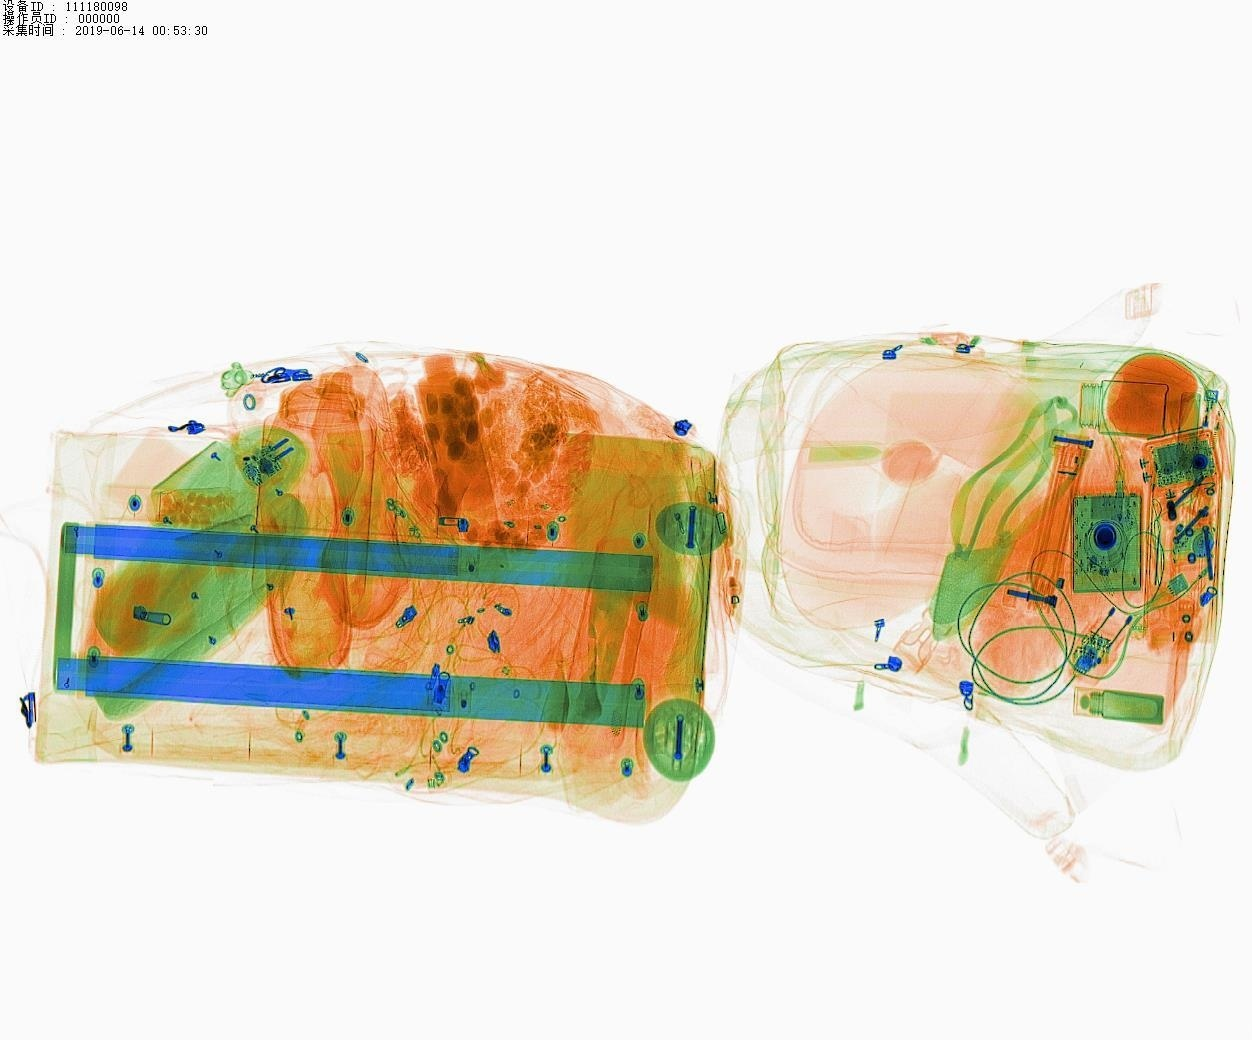NonmetallicFire: (1195, 370, 1231, 445)
